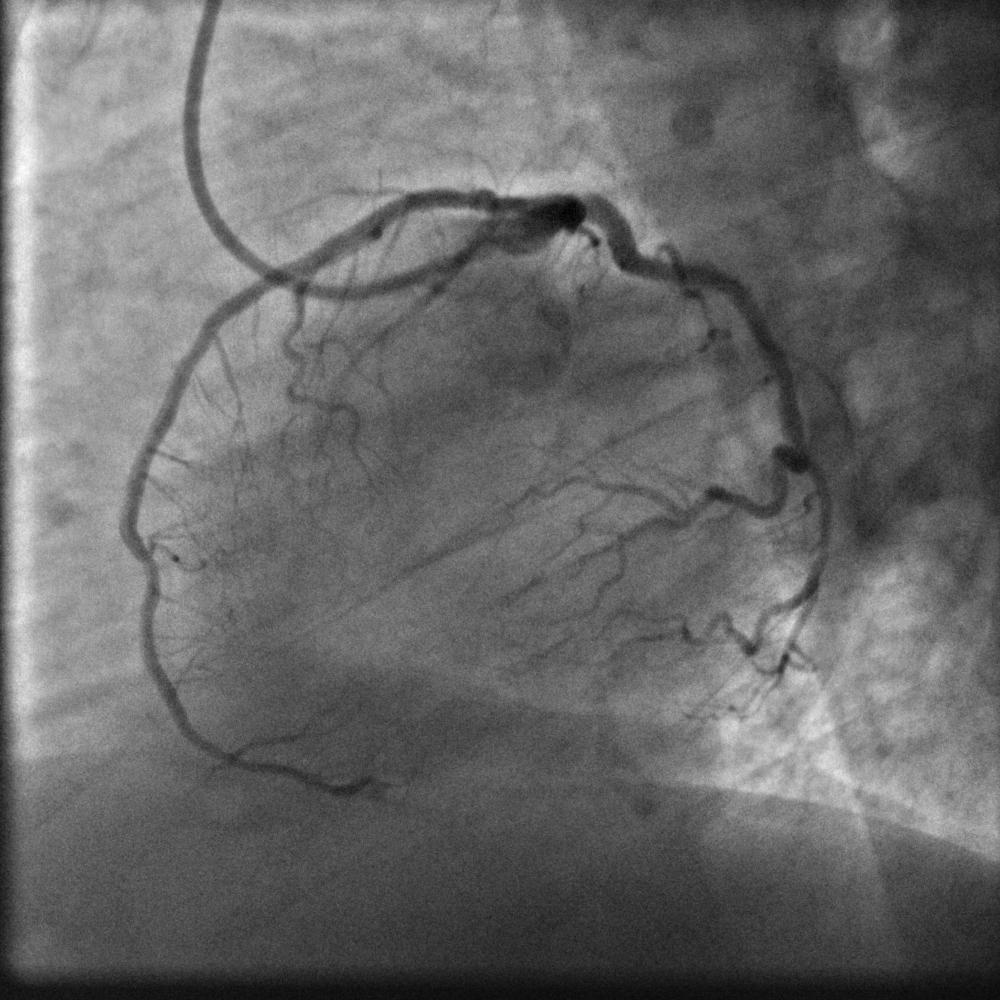Stenosis: (453, 186, 490, 212)
